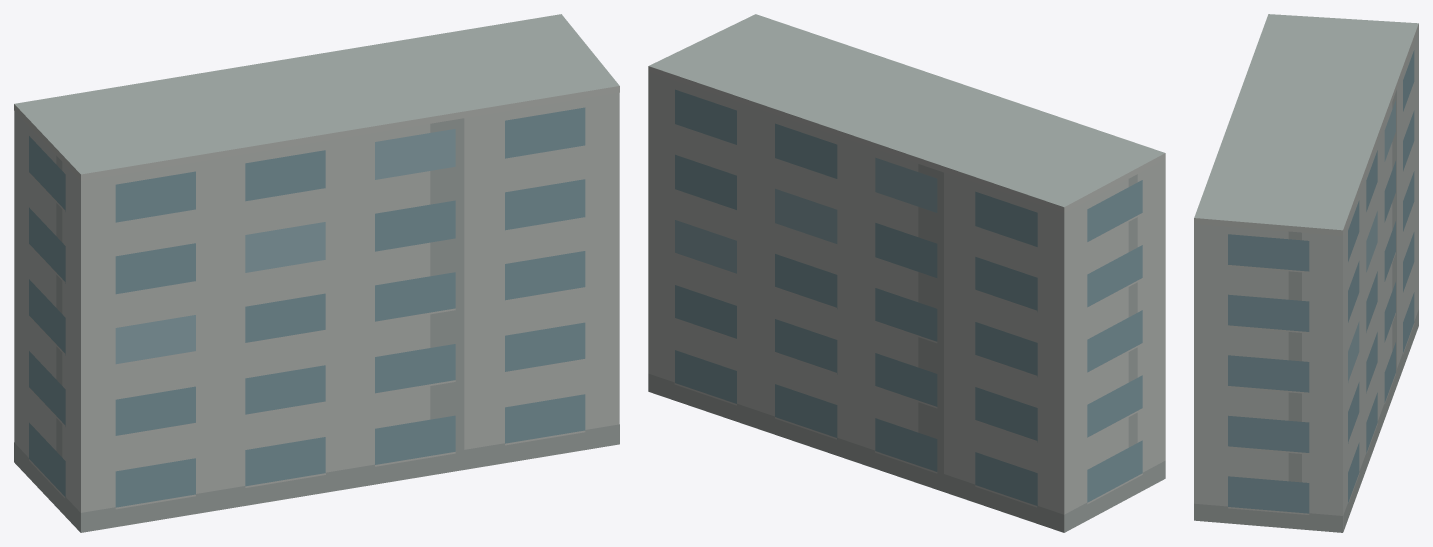
The model's file is survey-upis-32532846.glb.
The picture shows the model from 3 angles, left to right: view 1: azimuth 30°, elevation 25°; view 2: azimuth 150°, elevation 25°; view 3: azimuth 270°, elevation 25°; orthographic projection. The views are drawn at different scales.
Visible parts, largest first — view 1: survey-upis-32532846.tmp; view 2: survey-upis-32532846.tmp; view 3: survey-upis-32532846.tmp.
Boxes of the visible parts, x1,y1,x2,y2 form: survey-upis-32532846.tmp: (14,14,619,532); survey-upis-32532846.tmp: (648,14,1165,532); survey-upis-32532846.tmp: (1194,14,1418,532).
Bounding box in the file's own units: 19.94 × 13 × 8.76.
